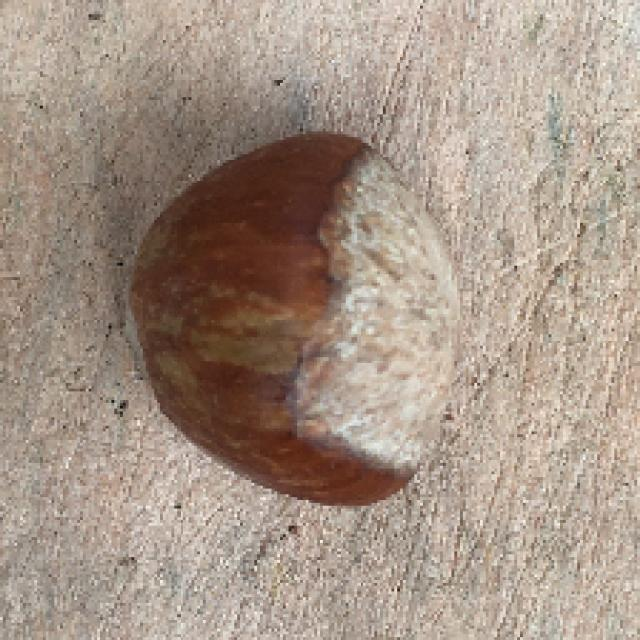qualityHazelnut: (119, 132, 461, 506)
